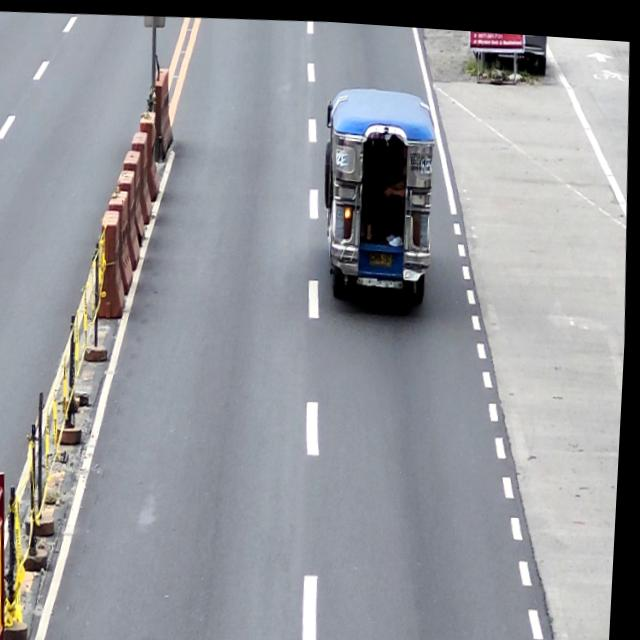Jeep: (316, 77, 444, 308)
License-Plate: (371, 245, 395, 264)
